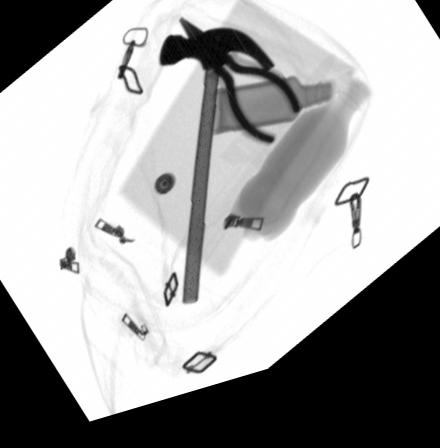Hammer: (159, 39, 275, 314)
Pliers: (180, 26, 302, 160)
